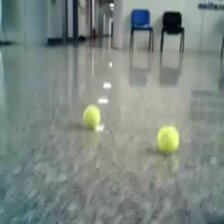tennis: (156, 124, 179, 151), (82, 105, 100, 129)
